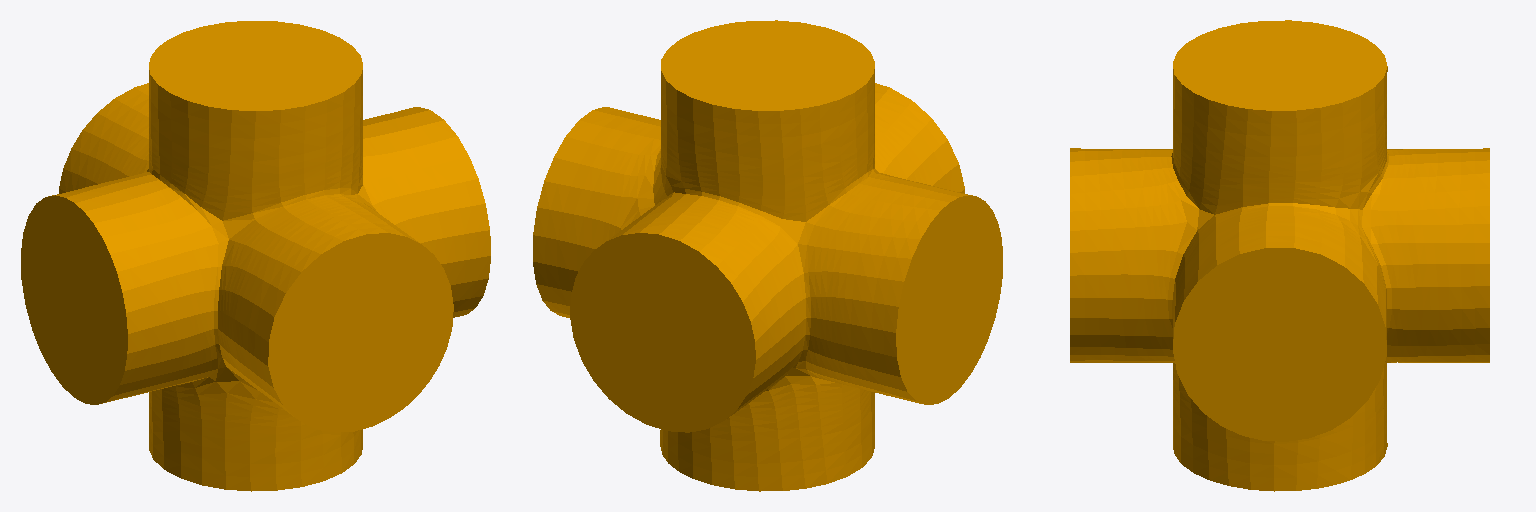
The robot description file, URDF, robot "object":
<robot name="object">
  <link name="object">
    <visual>
      <origin xyz="0 0 0"/>
      <geometry>
        <mesh filename="visual.obj" scale="1 1 1"/>
      </geometry>
    </visual>
    <collision>
      <origin xyz="0 0 0"/>
      <geometry>
        <mesh filename="visual.obj" scale="1 1 1"/>
      </geometry>
    </collision>
    <inertial>
      <mass value="0.05"/>
      <inertia ixx="4.451025717247874e-05" iyy="4.4491725717914e-05" izz="4.450597690703053e-05" ixy="1.70986800158704e-09" ixz="9.677709044310552e-09" iyz="-3.6555939819628844e-09"/>
    </inertial>
  </link>
</robot>

--- Facts derived from the render (not from the file) ---
The picture shows the robot from 3 angles, left to right: view 1: azimuth 30°, elevation 25°; view 2: azimuth 150°, elevation 25°; view 3: azimuth 270°, elevation 25°; orthographic projection.
Model object with 1 links and 0 joints (none), rooted at object, posed all joints at 0.
Links seen in each view (by area): view 1: object; view 2: object; view 3: object.
Link boxes in pixels (<box>): object: <box>21,21,490,491</box>; object: <box>533,20,1002,491</box>; object: <box>1070,20,1489,491</box>.
Size in the robot's own frame: 0.096 by 0.096 by 0.096 metres.
Meshes: 1 distinct files referenced, 1 mesh visuals loaded (1 OBJ).
